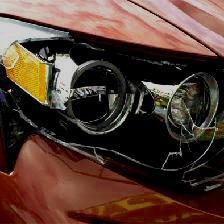head_lamp: (12, 22, 214, 189)
